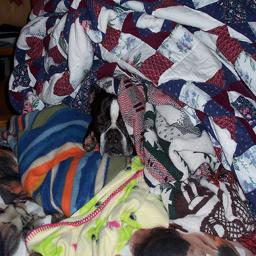dog: (162, 120, 256, 232)
